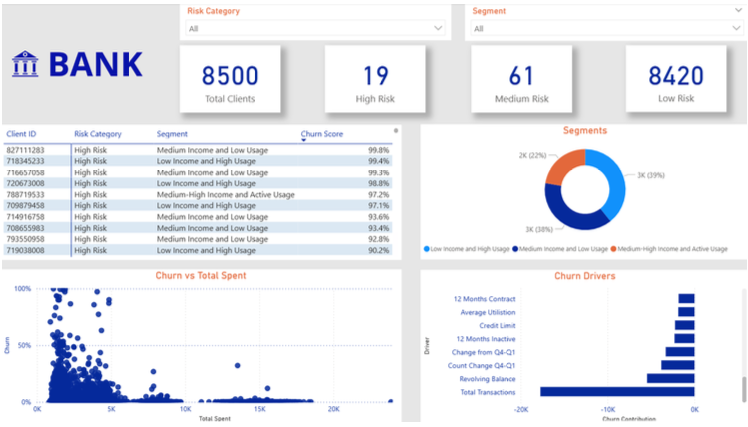

The dashboard page shown, as its layout file describes it:
{"tool":"powerbi","page":{"name":"Dashboard","canvas":[1280,720],"ordinal":0},"visuals":[{"type":"clusteredBarChart","title":"Churn Drivers","fields":{"Category":["bank shap.Variable"],"Y":["Sum(bank shap.SHAP)"]},"box":[717.8,455.2,562.2,265.5],"z":0},{"type":"scatterChart","title":"Churn vs Total Spent","fields":{"Y":["bank churn_score.Churn_Score"],"X":["Sum(bank transactions.TOTAL_TRANS_AMT)"]},"box":[0,454.7,684.9,265.7],"z":1000},{"type":"pivotTable","fields":{"Rows":["bank churn_score.CLIENTNUM"],"Values":["Min(bank churn_score.Churn_Risk_Category)","Min(bank clustering.CLUSTER_LABEL)","Sum(bank churn_score.Churn_Score)"]},"box":[0,207.2,684.7,231.5],"z":2000},{"type":"slicer","fields":{"Values":["bank churn_score.Churn_Risk_Category"]},"box":[306,0,464.1,62.7],"z":3000},{"type":"slicer","fields":{"Values":["bank clustering.CLUSTER_LABEL"]},"box":[793.5,0,486.5,63.6],"z":4000},{"type":"donutChart","title":"Segments","fields":{"Category":["bank clustering.CLUSTER_LABEL"],"Y":["CountNonNull(bank clustering.CLIENTNUM)"]},"box":[717.7,206.8,562.3,231.1],"z":5000},{"type":"card","fields":{"Values":["bank churn_score.Total_Clients"]},"box":[553.9,72,172.2,115.1],"z":6000},{"type":"card","fields":{"Values":["bank churn_score.Total_Clients"]},"box":[804.7,72,172.2,115.1],"z":7000},{"type":"card","fields":{"Values":["bank churn_score.Total_Clients"]},"box":[1068.5,72,172,114.2],"z":8000},{"type":"card","fields":{"Values":["bank churn_score.Total_Clients"]},"box":[306,72,172,115.1],"z":9000},{"type":"image","box":[0,0,270.4,206.8],"z":10000}]}

Visuals, with their boxes in screenshot pixels (x1, y1, x2, y2), scaled from the page's 1280x720 canvas onto the 748x427 screenshot:
"Churn Drivers" clusteredBarChart: [x1=419, y1=270, x2=747, y2=426]
"Churn vs Total Spent" scatterChart: [x1=0, y1=270, x2=400, y2=426]
pivotTable - bank churn_score.CLIENTNUM x Min(bank churn_score.Churn_Risk_Category): [x1=0, y1=123, x2=400, y2=260]
slicer - bank churn_score.Churn_Risk_Category: [x1=179, y1=0, x2=450, y2=37]
slicer - bank clustering.CLUSTER_LABEL: [x1=464, y1=0, x2=747, y2=38]
"Segments" donutChart: [x1=419, y1=123, x2=747, y2=260]
card - bank churn_score.Total_Clients: [x1=324, y1=43, x2=424, y2=111]
card - bank churn_score.Total_Clients: [x1=470, y1=43, x2=571, y2=111]
card - bank churn_score.Total_Clients: [x1=624, y1=43, x2=725, y2=110]
card - bank churn_score.Total_Clients: [x1=179, y1=43, x2=279, y2=111]
image: [x1=0, y1=0, x2=158, y2=123]
